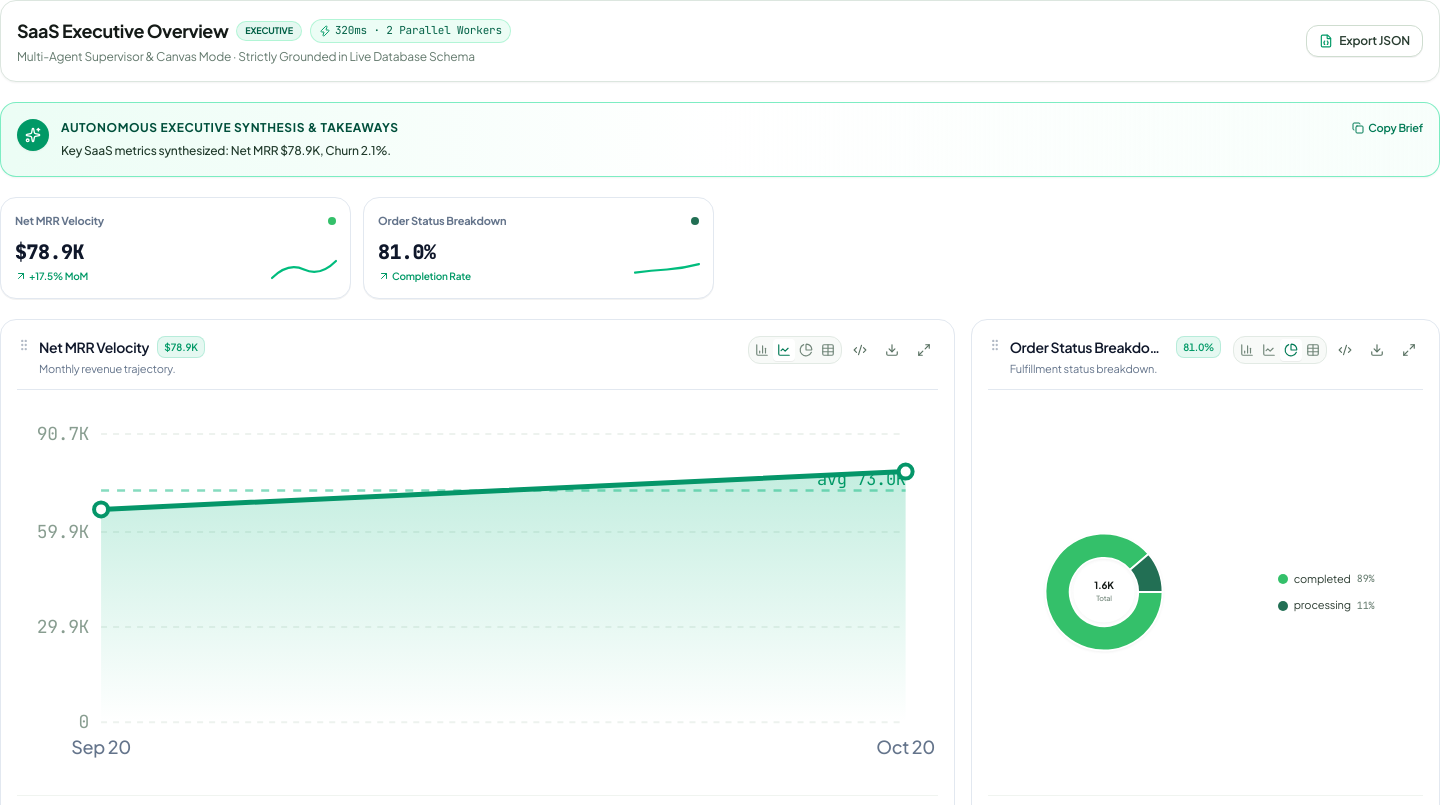
Test case: DashboardCanvas Component › switches widget chart type to table view
Click the 1st button titled "Data Table" at (828, 350), box [817,339,839,361]
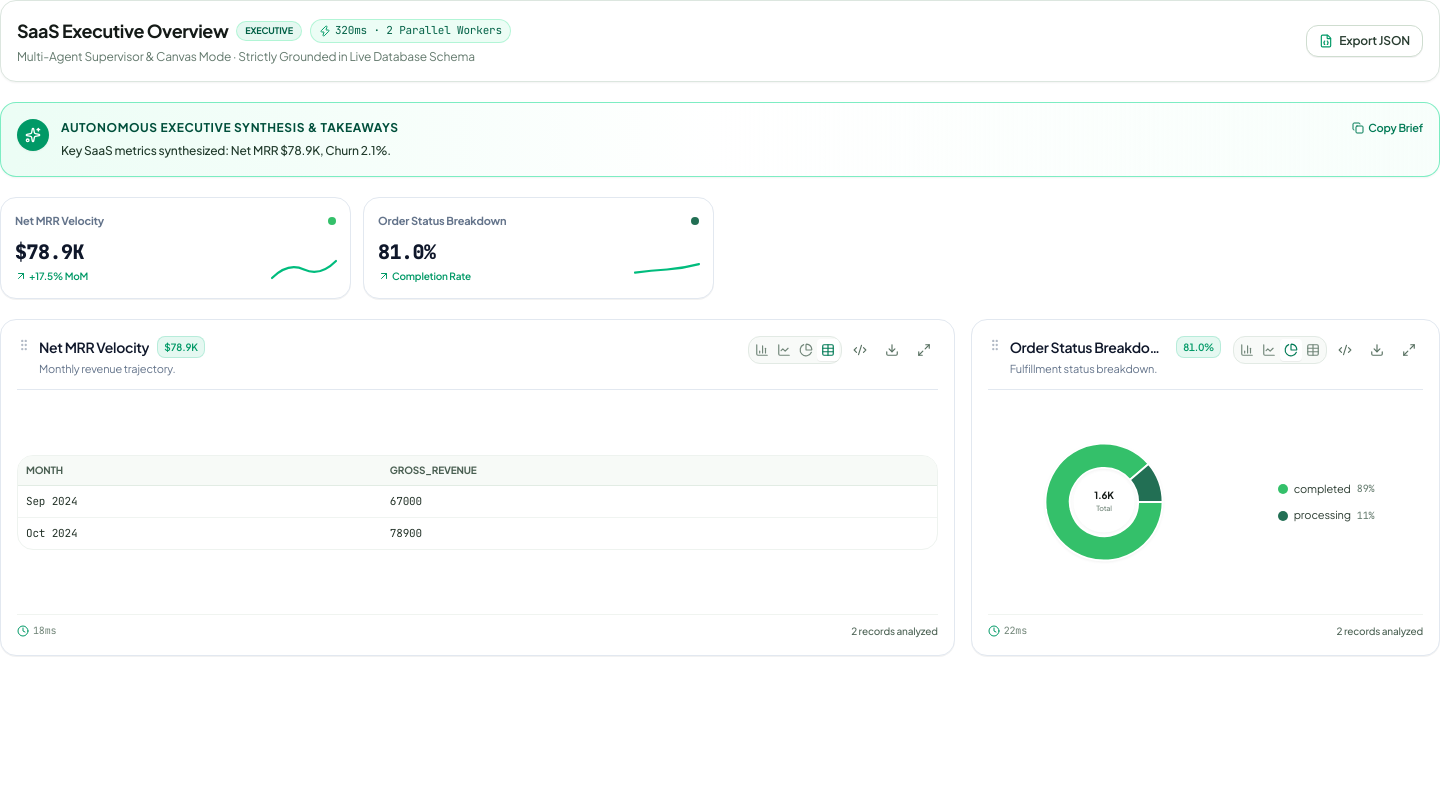
Expected: the text "Sep 2024" is shown, [18,486,382,518]
Expected: the text "Oct 2024" is shown, [18,517,382,549]
